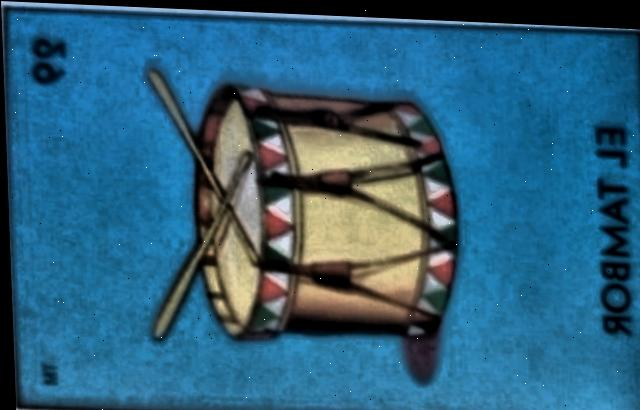El Tambor: (1, 2, 640, 410)
